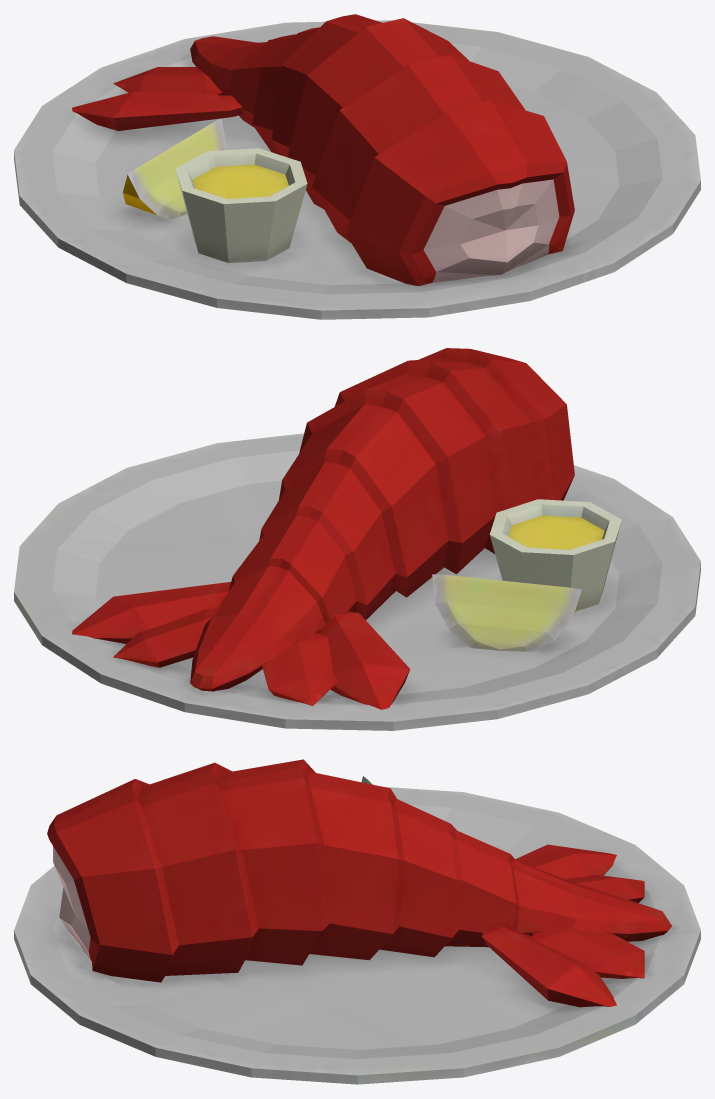
The model's file is food-drink-lobster-tail-232.glb.
3 renders of one model, top to bottom at view 1: azimuth 30°, elevation 25°; view 2: azimuth 150°, elevation 25°; view 3: azimuth 270°, elevation 25°, orthographic.
Visible parts, largest first — view 1: LobsterTail_mesh; view 2: LobsterTail_mesh; view 3: LobsterTail_mesh.
Boxes of the visible parts, x1,y1,x2,y2 form: LobsterTail_mesh: (14,14,700,319); LobsterTail_mesh: (14,348,700,730); LobsterTail_mesh: (14,759,700,1084).
Bounding box in the file's own units: 2.57 × 0.8566 × 2.57.
1 material, 1 textured.
